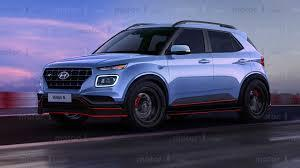hyundai: (54, 69, 71, 82)
